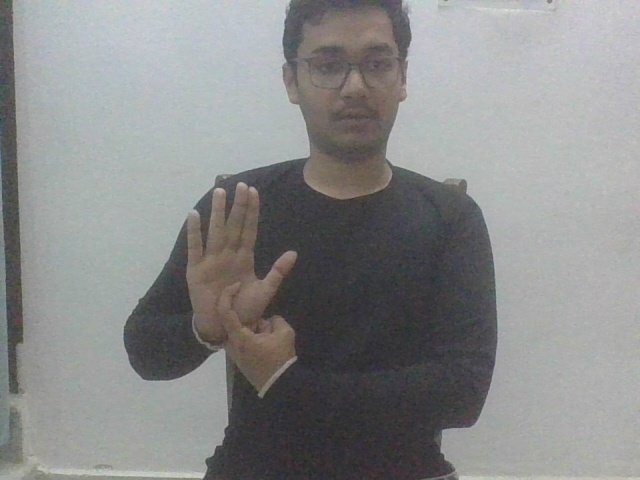R: (186, 178, 301, 402)
